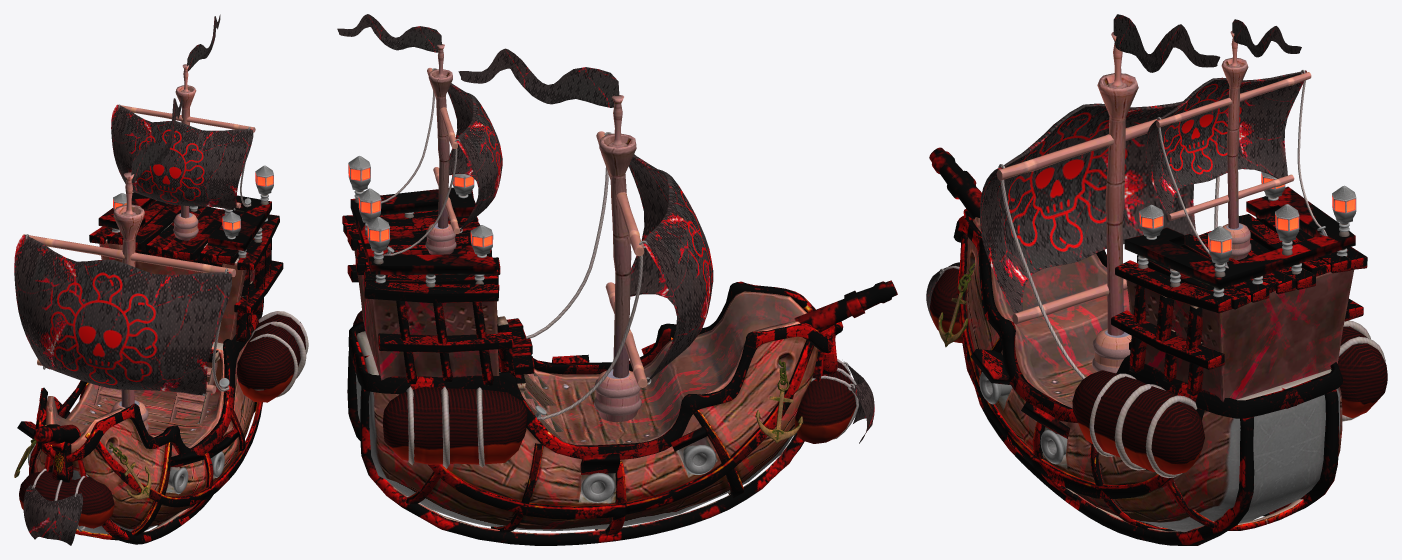
The model's file is PirateShips_06.fbx.
The picture shows the model from 3 angles, left to right: view 1: azimuth 30°, elevation 25°; view 2: azimuth 150°, elevation 25°; view 3: azimuth 270°, elevation 25°; orthographic projection. The views are drawn at different scales.
Visible parts, largest first — view 1: PirateShip_06; view 2: PirateShip_06; view 3: PirateShip_06.
Boxes of the visible parts, x1,y1,x2,y2 form: PirateShip_06: [14, 14, 308, 545]; PirateShip_06: [337, 14, 897, 545]; PirateShip_06: [926, 14, 1387, 545].
Bounding box in the file's own units: 2993 × 3433 × 2565.
